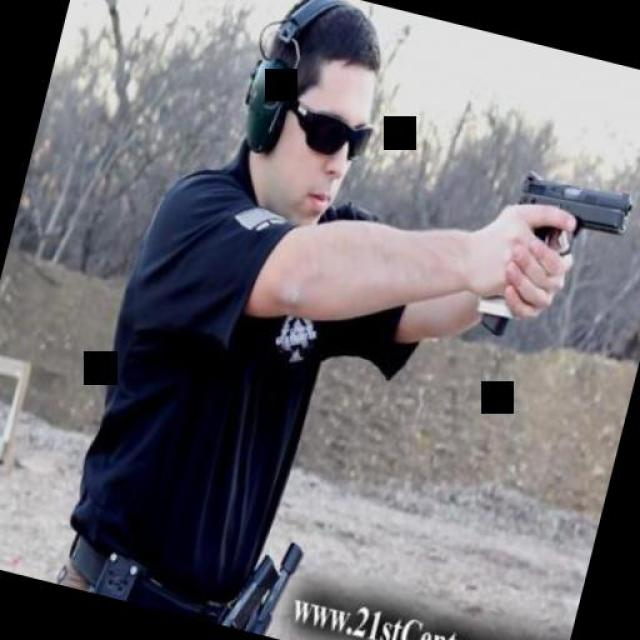gun: (470, 162, 635, 358)
